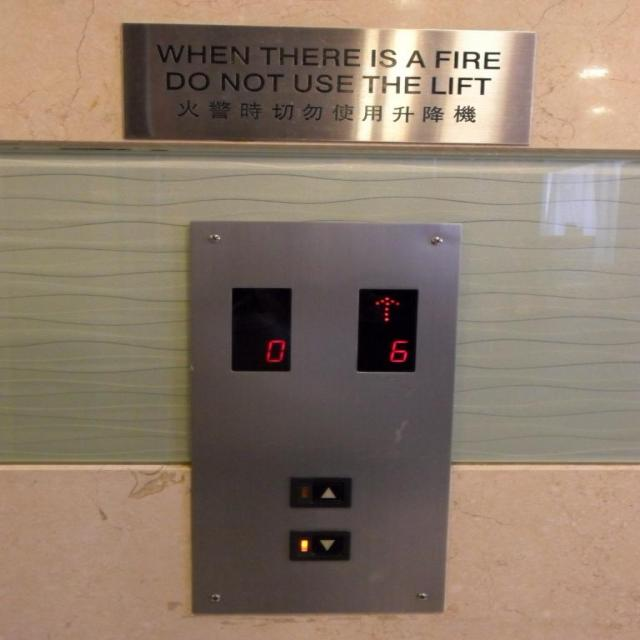down: (285, 526, 354, 562)
led: (353, 283, 421, 375), (228, 284, 292, 374)
up: (286, 474, 355, 509)
